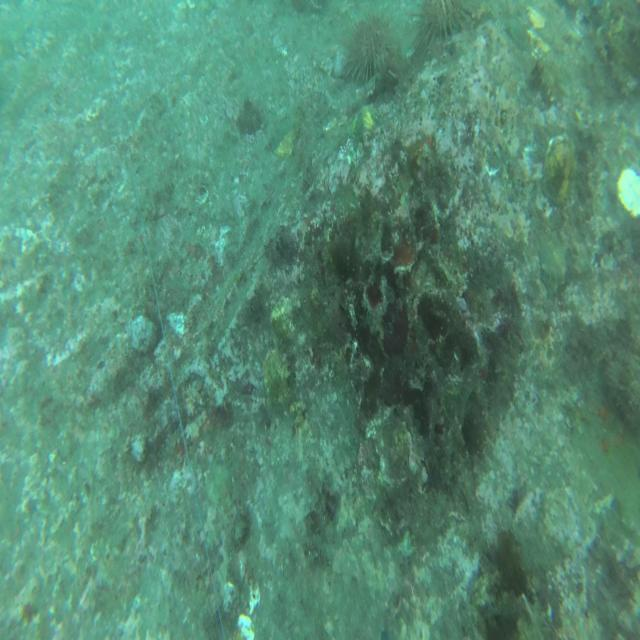echinus: (337, 11, 397, 85), (418, 2, 472, 43)
scallop: (542, 134, 576, 210), (524, 7, 554, 67), (349, 103, 379, 142)
